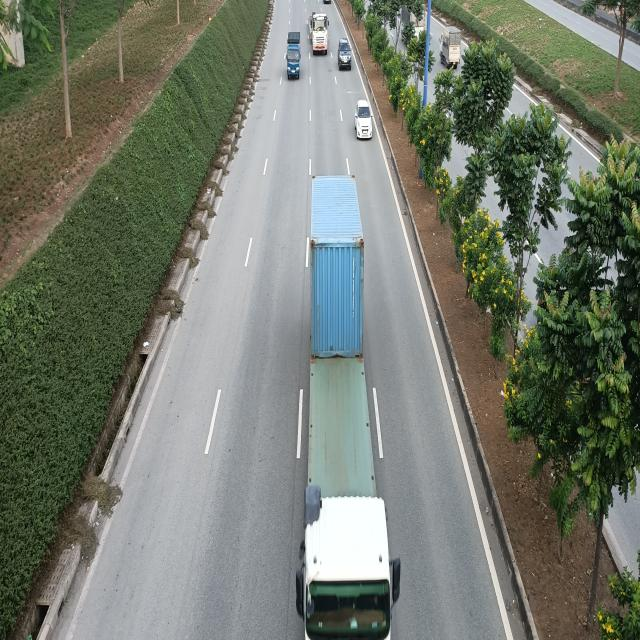car: (354, 101, 374, 139), (338, 37, 353, 68)
container: (296, 176, 400, 640), (308, 9, 328, 53)
truck: (284, 29, 302, 79)
